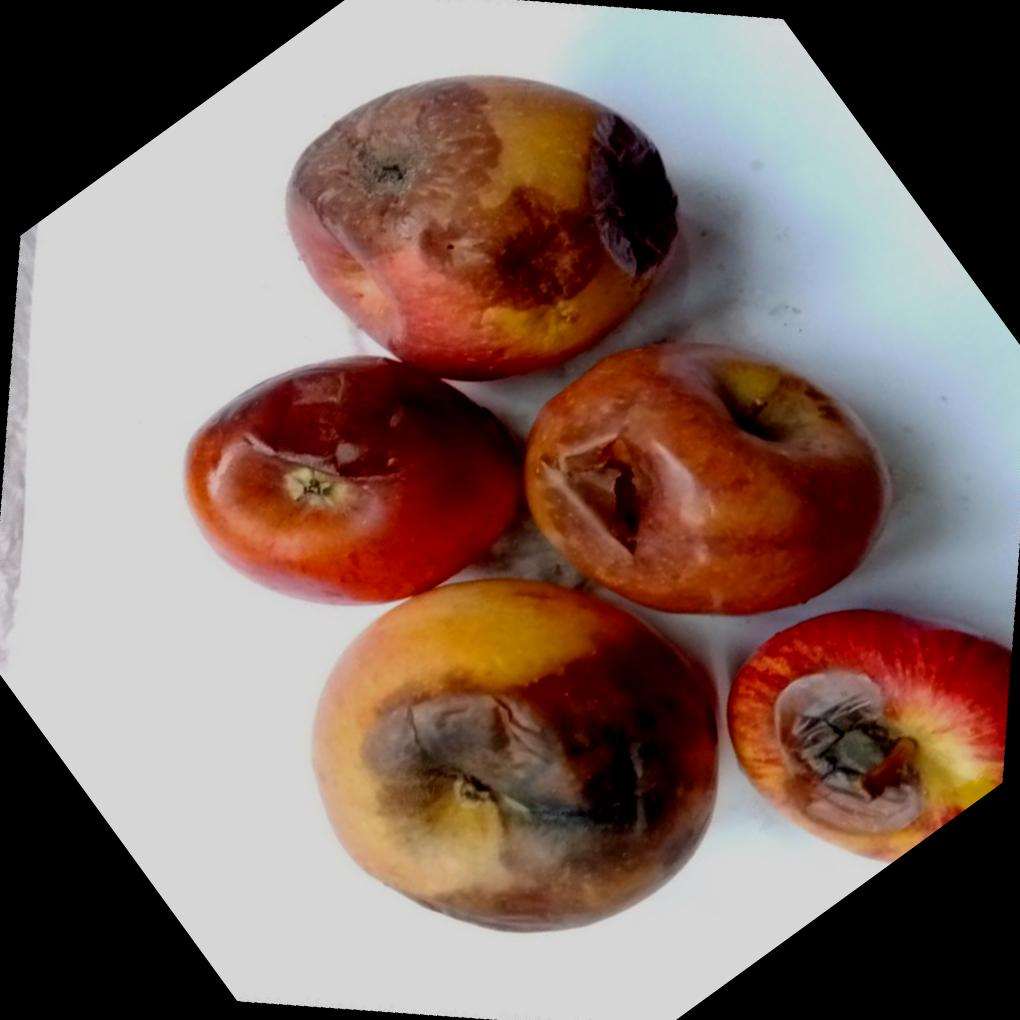FreshOrange: (181, 80, 893, 933), (722, 610, 1010, 865)
